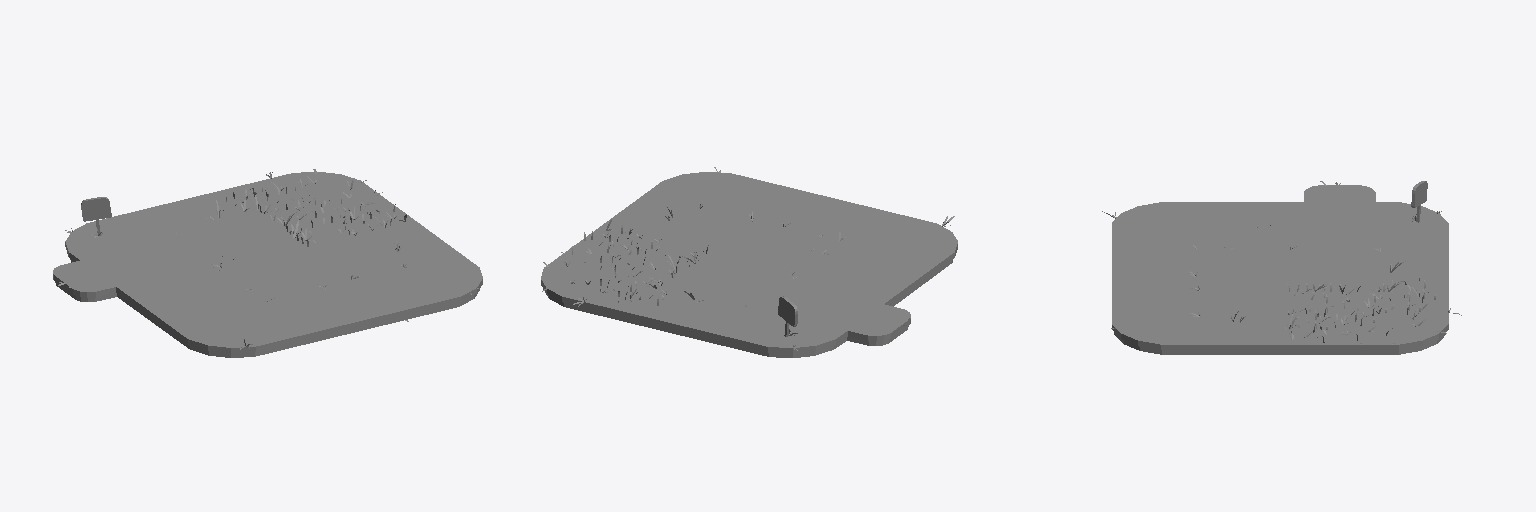
The model's file is House_Part4.obj.
3 renders of one model, left to right at view 1: azimuth 30°, elevation 25°; view 2: azimuth 150°, elevation 25°; view 3: azimuth 270°, elevation 25°, orthographic.
Parts seen in each view (by area): view 1: miniHouse_Part4, miniHouse_Part4_grassStrands; view 2: miniHouse_Part4, miniHouse_Part4_grassStrands; view 3: miniHouse_Part4, miniHouse_Part4_grassStrands.
Boxes of the visible parts, x1,y1,x2,y2 form: miniHouse_Part4: [53, 172, 482, 357]; miniHouse_Part4_grassStrands: [58, 169, 478, 349]; miniHouse_Part4: [541, 172, 957, 357]; miniHouse_Part4_grassStrands: [542, 167, 954, 350]; miniHouse_Part4: [1112, 181, 1448, 354]; miniHouse_Part4_grassStrands: [1102, 181, 1461, 344].
Size of the model in its own units: 59.62 by 9.77 by 55.35.